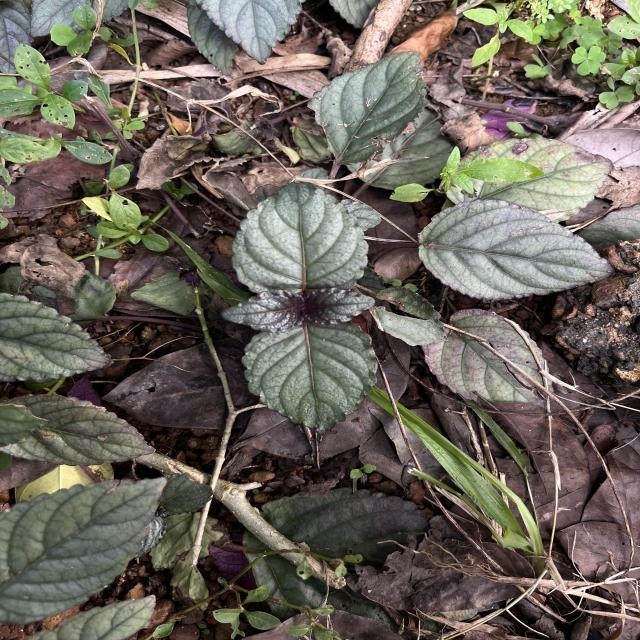Hemigraphis colorata: (0, 474, 170, 626), (415, 198, 617, 302), (239, 321, 380, 436), (230, 180, 370, 294), (306, 49, 430, 167), (0, 392, 161, 468), (0, 290, 120, 386), (193, 0, 305, 66), (217, 286, 307, 334), (302, 286, 378, 328)
